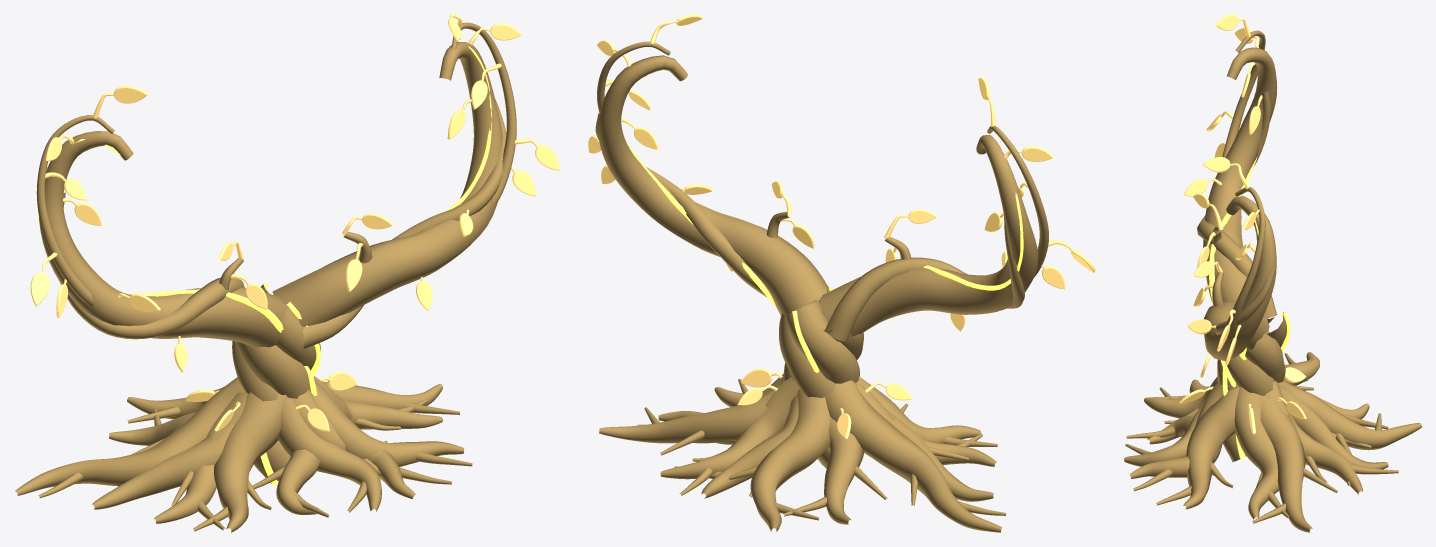
File: golden-roots.glb
3 renders of one model, left to right at view 1: azimuth 30°, elevation 25°; view 2: azimuth 150°, elevation 25°; view 3: azimuth 270°, elevation 25°, orthographic. The views are drawn at different scales.
Visible parts, largest first — view 1: roots-60, roots-85, roots-38, roots-27, roots-19, roots-35, roots-13, roots-87, roots-62, roots-6, roots-30, roots-88 (+10 smaller); view 2: roots-60, roots-85, roots-38, roots-46, roots-57, roots-87, roots-52, roots-0, roots-41, roots-62, roots-49, roots-2 (+7 smaller); view 3: roots-85, roots-60, roots-57, roots-13, roots-8, roots-46, roots-52, roots-87, roots-49, roots-16, roots-63, roots-2 (+10 smaller).
Part boxes in pixels (left/top/right/bottom): roots-60: left=272, top=42, right=502, bottom=326; roots-85: left=39, top=131, right=286, bottom=347; roots-38: left=15, top=377, right=245, bottom=495; roots-27: left=214, top=392, right=287, bottom=532; roots-19: left=278, top=397, right=381, bottom=511; roots-35: left=92, top=393, right=247, bottom=509; roots-13: left=311, top=380, right=464, bottom=466; roots-87: left=60, top=192, right=244, bottom=339; roots-62: left=302, top=99, right=506, bottom=348; roots-6: left=236, top=341, right=310, bottom=398; roots-30: left=154, top=392, right=246, bottom=523; roots-88: left=36, top=115, right=114, bottom=306; roots-60: left=598, top=55, right=829, bottom=315; roots-85: left=820, top=135, right=1038, bottom=336; roots-38: left=825, top=380, right=1002, bottom=532; roots-46: left=750, top=389, right=830, bottom=531; roots-57: left=599, top=379, right=783, bottom=443; roots-87: left=824, top=216, right=1024, bottom=341; roots-52: left=660, top=377, right=799, bottom=479; roots-0: left=784, top=301, right=859, bottom=383; roots-41: left=824, top=416, right=864, bottom=524; roots-62: left=595, top=113, right=820, bottom=301; roots-49: left=701, top=390, right=801, bottom=498; roots-2: left=779, top=299, right=835, bottom=397; roots-85: left=1203, top=47, right=1277, bottom=307; roots-60: left=1204, top=196, right=1276, bottom=360; roots-57: left=1260, top=395, right=1312, bottom=532; roots-13: left=1183, top=387, right=1239, bottom=509; roots-8: left=1234, top=387, right=1278, bottom=519; roots-46: left=1278, top=380, right=1421, bottom=450; roots-52: left=1265, top=381, right=1362, bottom=494; roots-87: left=1197, top=91, right=1277, bottom=318; roots-49: left=1279, top=383, right=1388, bottom=469; roots-16: left=1129, top=381, right=1223, bottom=478; roots-63: left=1219, top=187, right=1265, bottom=342; roots-2: left=1245, top=330, right=1285, bottom=382.
Size of the model in its own units: 2.69 by 2.1 by 1.52.
